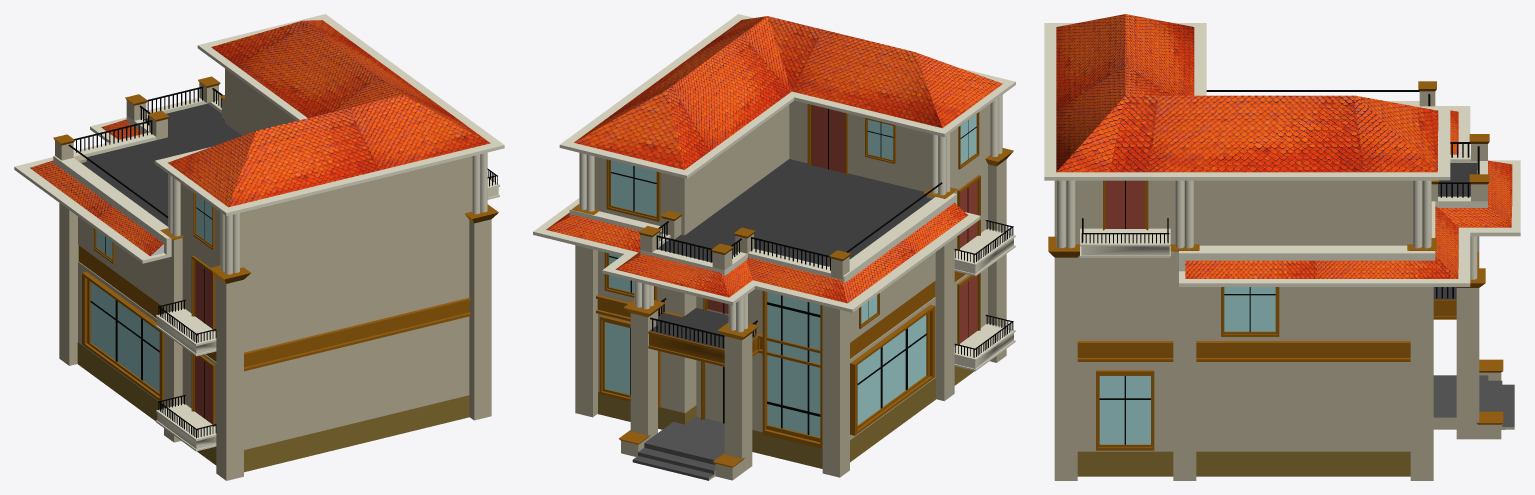
3 renders of one model, left to right at view 1: azimuth 30°, elevation 25°; view 2: azimuth 150°, elevation 25°; view 3: azimuth 270°, elevation 25°, orthographic. The views are drawn at different scales.
Parts seen in each view (by area): view 1: Cube, Cube.006, Cube.004, 立方体.008, Cube.029, Cube.033, Cube.026, 立方体.004, 立方体.118, 立方体.042, 立方体.013, 立方体.003 (+23 smaller); view 2: Cube, Cube.004, Cube.006, Cube.029, 立方体.143, 立方体.042, 立方体.118, Cube.030, 立方体.002, 立方体.001, 立方体, 立方体.003 (+47 smaller); view 3: Cube, Cube.004, Cube.006, Cube.025, Cube.033, 立方体.004, 立方体.009, 立方体.002, 立方体.030, 立方体, 立方体.111, 立方体.014 (+24 smaller).
Boxes of the visible parts, left/top/right/bottom form: Cube: left=78, top=68, right=472, bottom=449; Cube.006: left=167, top=95, right=490, bottom=207; Cube.004: left=211, top=20, right=466, bottom=125; 立方体.008: left=216, top=277, right=243, bottom=480; Cube.029: left=81, top=123, right=241, bottom=226; Cube.033: left=78, top=245, right=470, bottom=371; Cube.026: left=244, top=395, right=469, bottom=472; 立方体.004: left=469, top=219, right=491, bottom=420; 立方体.118: left=91, top=282, right=159, bottom=392; 立方体.042: left=59, top=155, right=86, bottom=365; 立方体.013: left=220, top=139, right=504, bottom=216; 立方体.003: left=164, top=238, right=182, bottom=442; Cube: left=594, top=100, right=990, bottom=480; Cube.004: left=574, top=16, right=791, bottom=169; Cube.006: left=719, top=16, right=1002, bottom=128; Cube.029: left=685, top=159, right=932, bottom=266; 立方体.143: left=767, top=292, right=820, bottom=437; 立方体.042: left=822, top=266, right=849, bottom=477; 立方体.118: left=857, top=315, right=926, bottom=424; Cube.030: left=632, top=416, right=724, bottom=480; 立方体.002: left=575, top=245, right=597, bottom=417; 立方体.001: left=724, top=333, right=752, bottom=472; 立方体: left=630, top=310, right=657, bottom=439; 立方体.003: left=927, top=192, right=954, bottom=401; Cube: left=1075, top=180, right=1514, bottom=451; Cube.004: left=1110, top=95, right=1438, bottom=172; Cube.006: left=1056, top=14, right=1194, bottom=172; Cube.025: left=1077, top=451, right=1410, bottom=476; Cube.033: left=1077, top=343, right=1410, bottom=361; 立方体.004: left=1054, top=257, right=1077, bottom=480; 立方体.009: left=1173, top=251, right=1196, bottom=480; 立方体.002: left=1410, top=287, right=1433, bottom=480; 立方体.030: left=1179, top=245, right=1435, bottom=270; 立方体: left=1456, top=288, right=1479, bottom=439; 立方体.111: left=1099, top=376, right=1150, bottom=444; 立方体.014: left=1048, top=172, right=1436, bottom=180.
Size of the model in its own units: 1044 by 974 by 1186.
22 materials, 2 textured.
